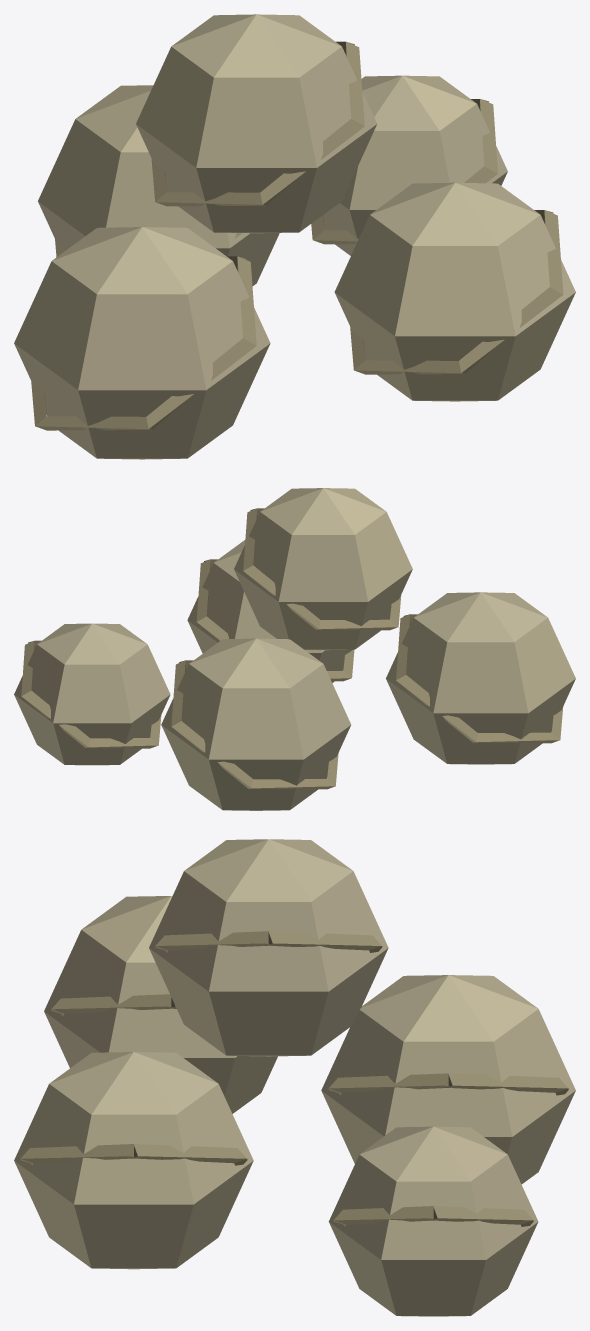
File: storage_flax_thread.glb
The picture shows the model from 3 angles, top to bottom: view 1: azimuth 30°, elevation 25°; view 2: azimuth 150°, elevation 25°; view 3: azimuth 270°, elevation 25°; orthographic projection. The views are drawn at different scales.
Parts seen in each view (by area): view 1: storage_flax_thread; view 2: storage_flax_thread; view 3: storage_flax_thread.
Part boxes in pixels (x1,y1,x2,y2): storage_flax_thread: (14, 14, 575, 459); storage_flax_thread: (14, 488, 575, 810); storage_flax_thread: (14, 839, 575, 1316).
Size of the model in its own units: 0.9002 by 0.54 by 0.75.
